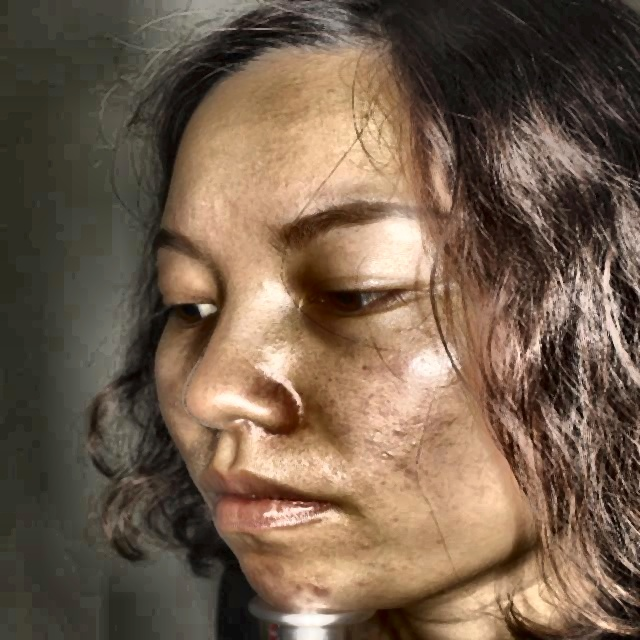comedone: (310, 578, 338, 598), (260, 556, 289, 574)
